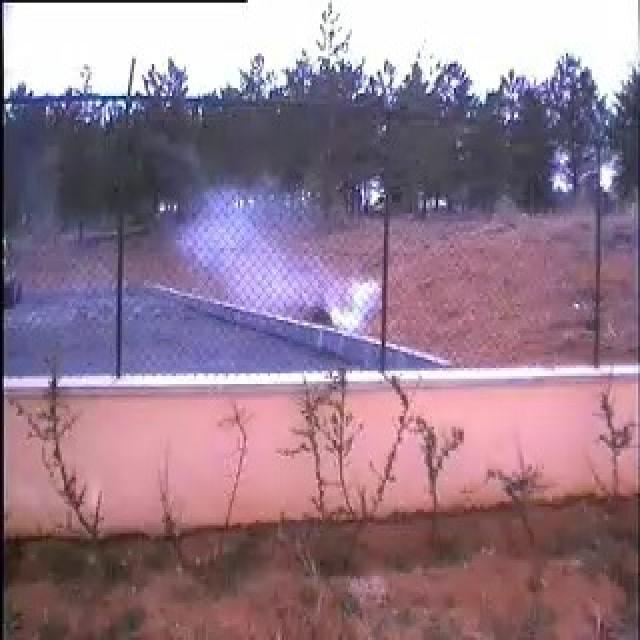smoke: (100, 189, 382, 366)
